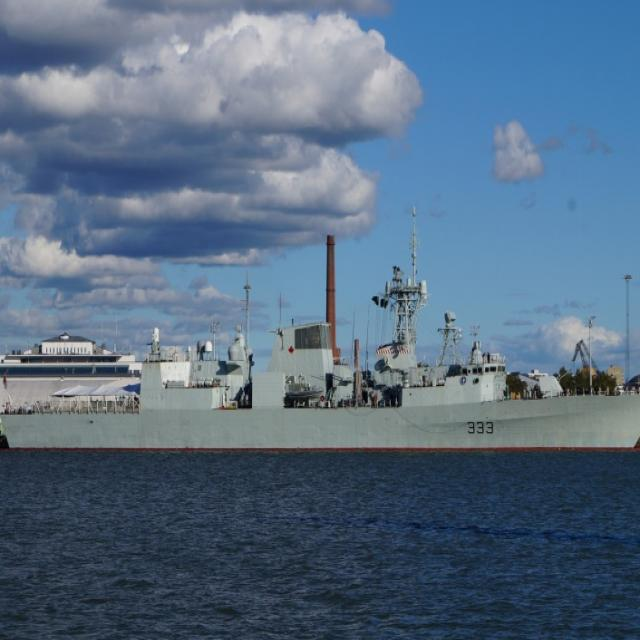Fragata: (1, 233, 640, 462)
